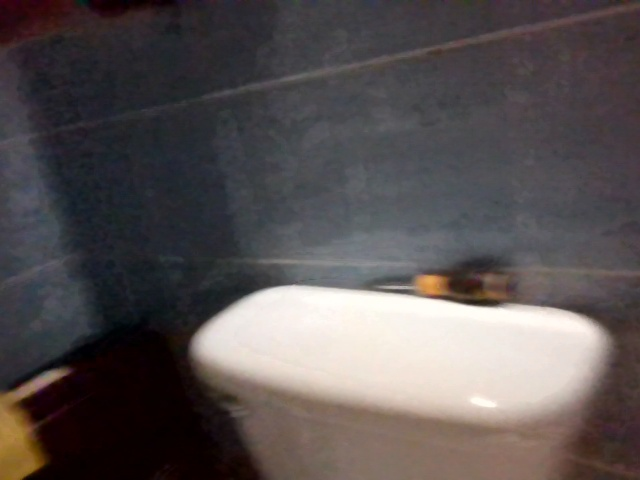destornillador: (363, 270, 519, 305)
